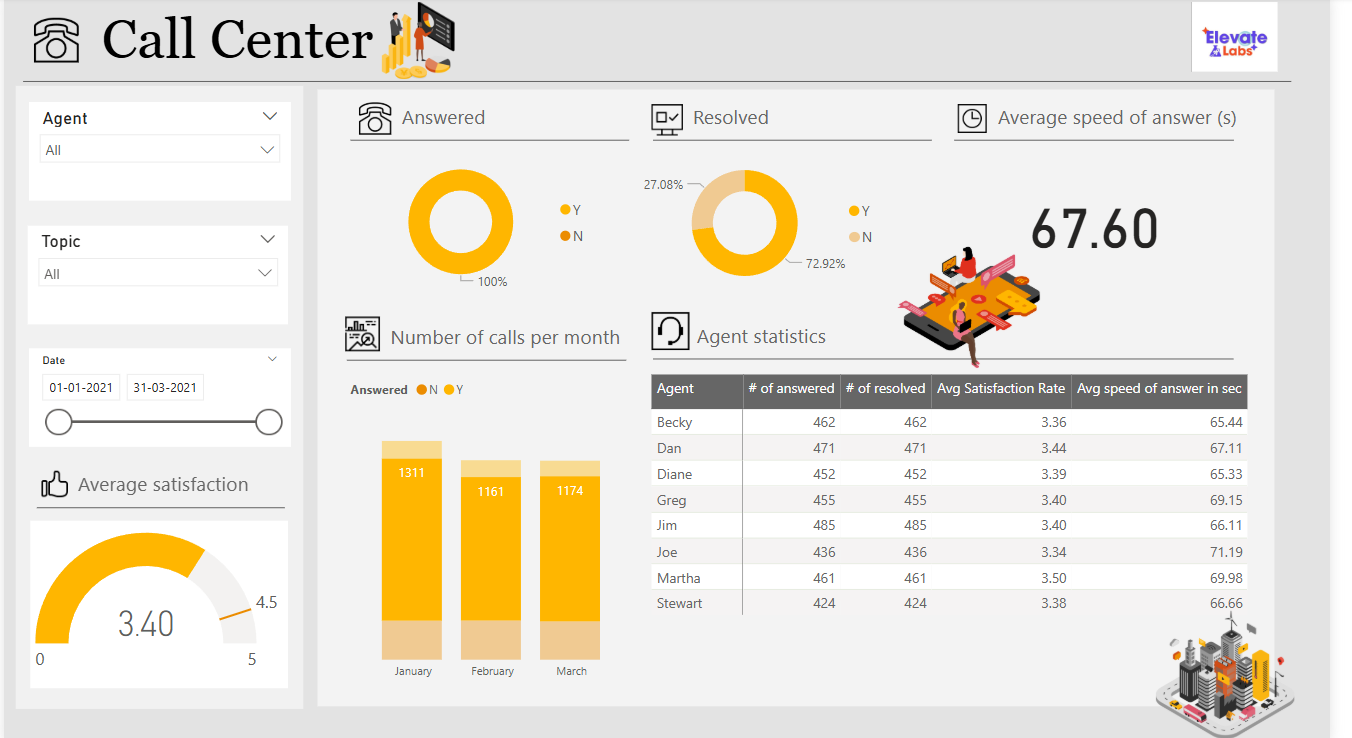

Layout of this report page (visuals, bound fields, positions):
{"tool":"powerbi","page":{"name":"Call Center Manager","canvas":[1280,720],"ordinal":0},"visuals":[{"type":"textbox","box":[89.7,4.8,1172,75.2],"z":0},{"type":"basicShape","box":[9,61,1244.3,40.1],"z":1000},{"type":"basicShape","box":[8.7,80.1,283.6,614.4],"z":2000},{"type":"basicShape","box":[292.6,83.8,942.7,607.6],"z":3000},{"type":"image","box":[24.1,7.7,53.1,68.5],"z":5000},{"type":"columnChart","fields":{"Category":["Call Center.Date.Variation.Date Hierarchy.Month"],"Y":["Call Center.Call Id"],"Series":["Call Center.Answered (Y/N)"]},"box":[329.5,359.7,284.8,308.3],"z":6000},{"type":"slicer","fields":{"Values":["Call Center.Date"]},"box":[24.6,339.5,252.4,94.9],"z":7000},{"type":"pivotTable","fields":{"Rows":["Call Center.Agent"],"Values":["Call Center.# of answered","Call Center.# of resolved","Call Center.Satisfaction rating","Call Center.Speed of answer in seconds"]},"box":[619.9,359.7,607.6,279.2],"z":8000},{"type":"slicer","fields":{"Values":["Call Center.Agent"]},"box":[24.6,101.6,252.4,95],"z":9000},{"type":"slicer","fields":{"Values":["Call Center.Topic"]},"box":[23.5,220.6,251.3,94.9],"z":10000},{"type":"donutChart","fields":{"Category":["Call Center.Resolved"],"Y":["Call Center.Resolved"]},"box":[611,143,242.4,149.7],"z":11000},{"type":"gauge","fields":{"Y":["Call Center.Satisfaction rating"],"MaxValue":["Call Center.Satisfaction rating"],"TargetValue":["Call Center.Target Value Satisfaction"]},"box":[25.7,506,249.1,162],"z":12000},{"type":"image","box":[31.1,452.4,35.7,35.7],"z":13000},{"type":"textbox","box":[66.8,452.4,188.1,35.7],"z":14000},{"type":"basicShape","box":[21.2,472.5,259.1,40.2],"z":15000},{"type":"donutChart","fields":{"Category":["Call Center.Answered (Y/N)"],"Y":["Call Center.Answered (Y/N)"]},"box":[341.8,141.8,232.3,149.7],"z":16000},{"type":"textbox","box":[378.6,98.3,172,35.7],"z":17000},{"type":"textbox","box":[660.1,98.3,183.2,35.7],"z":18000},{"type":"card","fields":{"Values":["Call Center.Speed of answer in seconds"]},"box":[953.9,148.6,196.6,136.3],"z":19000},{"type":"basicShape","box":[906.9,118.4,289.3,40.2],"z":20000},{"type":"textbox","box":[953.9,98.3,250.2,35.7],"z":21000},{"type":"basicShape","box":[325,118.4,289,40.2],"z":22000},{"type":"basicShape","box":[616,118.4,289,40.2],"z":23000},{"type":"image","box":[915.9,88.2,38,59.2],"z":24000},{"type":"image","box":[337.3,94.9,41.3,43.6],"z":25000},{"type":"image","box":[619.9,88.2,40.2,61.4],"z":26000},{"type":"textbox","box":[367.4,310.5,250.2,35.7],"z":27000},{"type":"basicShape","box":[320.5,330.6,289.3,40.2],"z":28000},{"type":"textbox","box":[663.4,309.3,250.2,35.7],"z":29000},{"type":"basicShape","box":[616.5,329.5,579.7,40.2],"z":30000},{"type":"image","box":[619.9,294.9,46.9,55.8],"z":31000},{"type":"image","box":[325,290.4,43.6,69.2],"z":32000},{"type":"image","box":[800.6,197.7,278.8,187.1],"z":33000},{"type":"image","box":[1121.9,0,131.3,77.1],"z":34001},{"type":"image","box":[1080,587.4,197.6,132.6],"z":34002},{"type":"image","box":[274.7,0,250.4,83.9],"z":34003}]}

Visuals, with their boxes on the page's 1280x720 design canvas (x1, y1, x2, y2). These are canvas units, not pixel positions in the 1352x738 screenshot, which may show the page scaled, cropped or inside an application window:
textbox: rect(90, 5, 1262, 80)
basicShape: rect(9, 61, 1253, 101)
basicShape: rect(9, 80, 292, 694)
basicShape: rect(293, 84, 1235, 691)
image: rect(24, 8, 77, 76)
columnChart - Call Center.Date.Variation.Date Hierarchy.Month x Call Center.Call Id: rect(330, 360, 614, 668)
slicer - Call Center.Date: rect(25, 340, 277, 434)
pivotTable - Call Center.Agent x Call Center.# of answered: rect(620, 360, 1228, 639)
slicer - Call Center.Agent: rect(25, 102, 277, 197)
slicer - Call Center.Topic: rect(24, 221, 275, 316)
donutChart - Call Center.Resolved x Call Center.Resolved: rect(611, 143, 853, 293)
gauge - Call Center.Satisfaction rating x Call Center.Satisfaction rating: rect(26, 506, 275, 668)
image: rect(31, 452, 67, 488)
textbox: rect(67, 452, 255, 488)
basicShape: rect(21, 472, 280, 513)
donutChart - Call Center.Answered (Y/N) x Call Center.Answered (Y/N): rect(342, 142, 574, 292)
textbox: rect(379, 98, 551, 134)
textbox: rect(660, 98, 843, 134)
card - Call Center.Speed of answer in seconds: rect(954, 149, 1150, 285)
basicShape: rect(907, 118, 1196, 159)
textbox: rect(954, 98, 1204, 134)
basicShape: rect(325, 118, 614, 159)
basicShape: rect(616, 118, 905, 159)
image: rect(916, 88, 954, 147)
image: rect(337, 95, 379, 138)
image: rect(620, 88, 660, 150)
textbox: rect(367, 310, 618, 346)
basicShape: rect(320, 331, 610, 371)
textbox: rect(663, 309, 914, 345)
basicShape: rect(616, 330, 1196, 370)
image: rect(620, 295, 667, 351)
image: rect(325, 290, 369, 360)
image: rect(801, 198, 1079, 385)
image: rect(1122, 0, 1253, 77)
image: rect(1080, 587, 1278, 720)
image: rect(275, 0, 525, 84)
